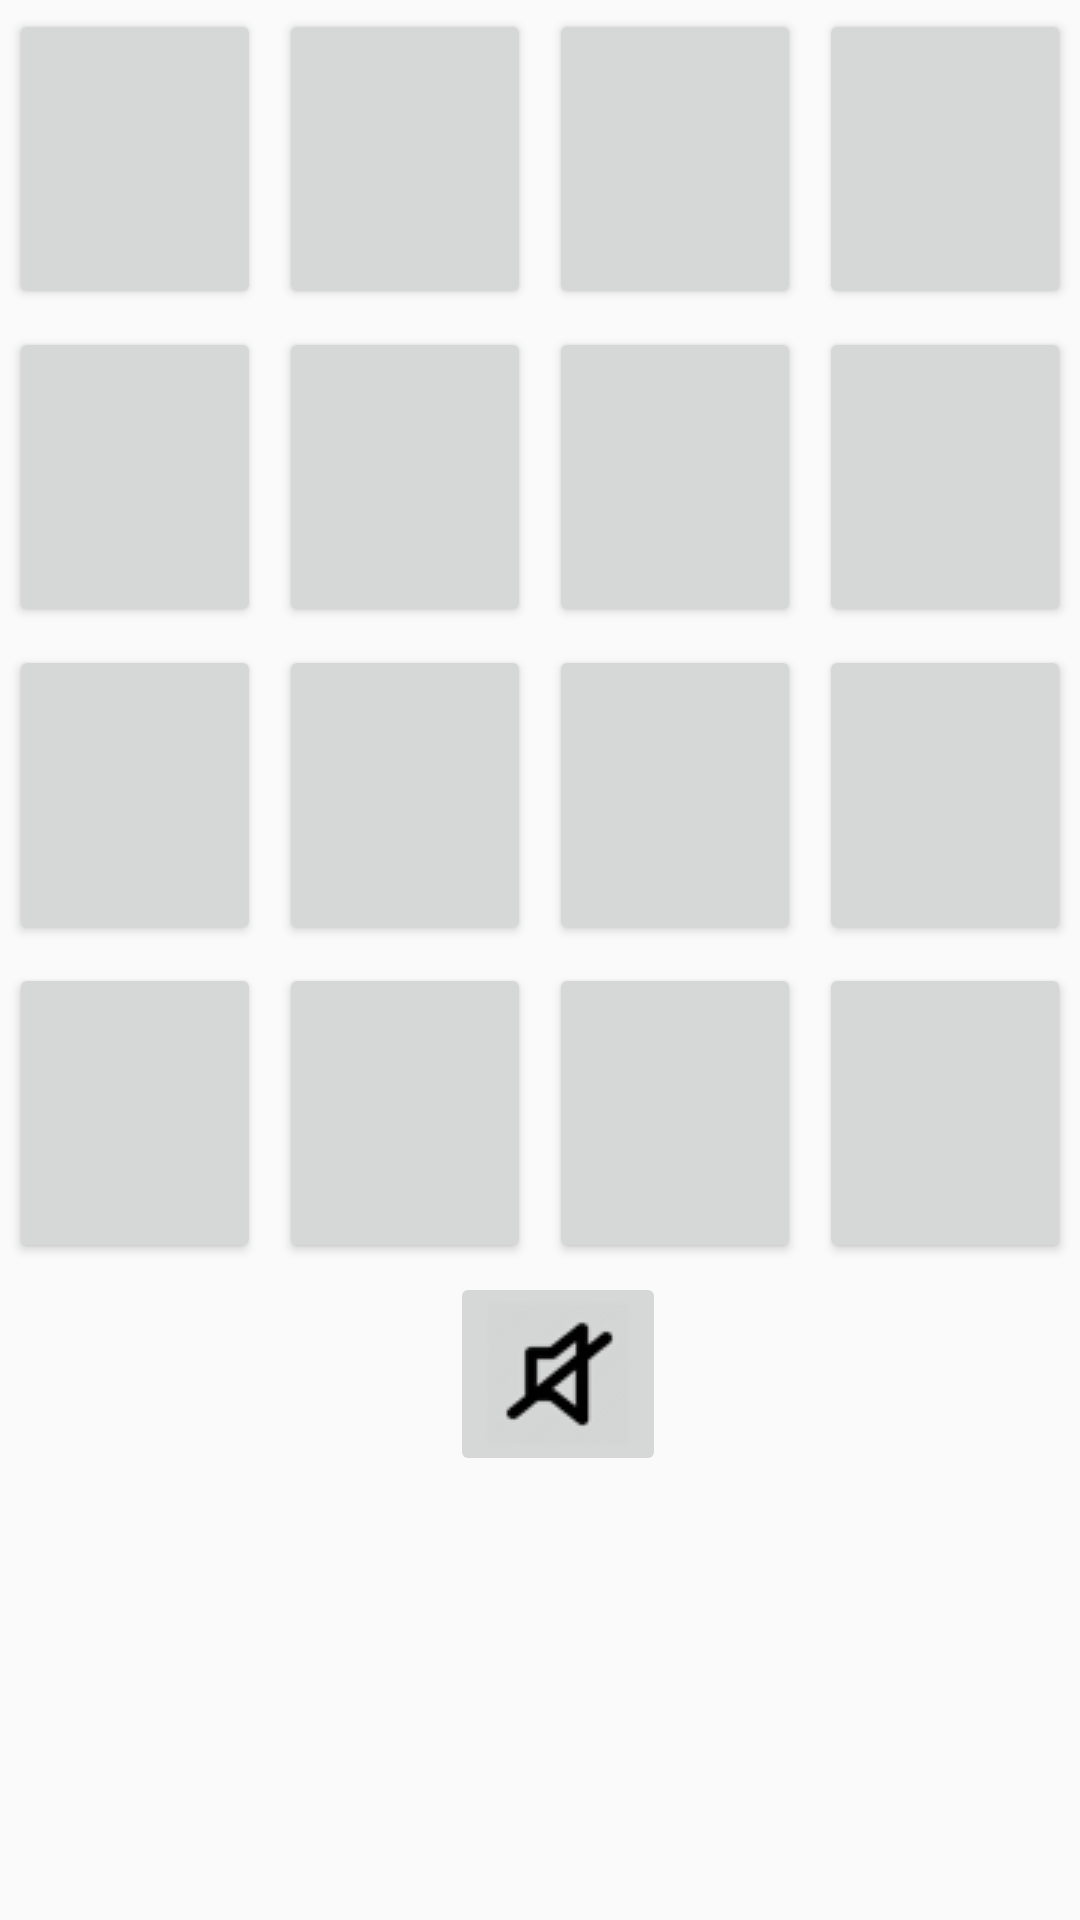

Where icons sit on this 1080px×1920px app screen, as (x1, y1, x2, y2):
mute volume: (462, 1290, 654, 1458)
